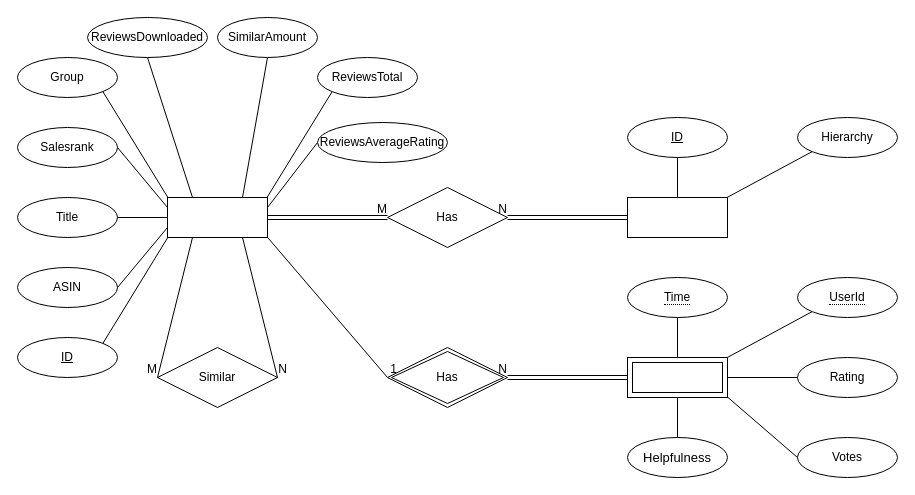
The diagram is 915 pixels wide and 495 high, and some of its shapes have lost their labels. Here are the shapes that lost their labels. From the top down, the box of each, then its label:
(166, 196, 268, 238): Product
(626, 196, 728, 238): Category
(626, 356, 728, 398): Review
